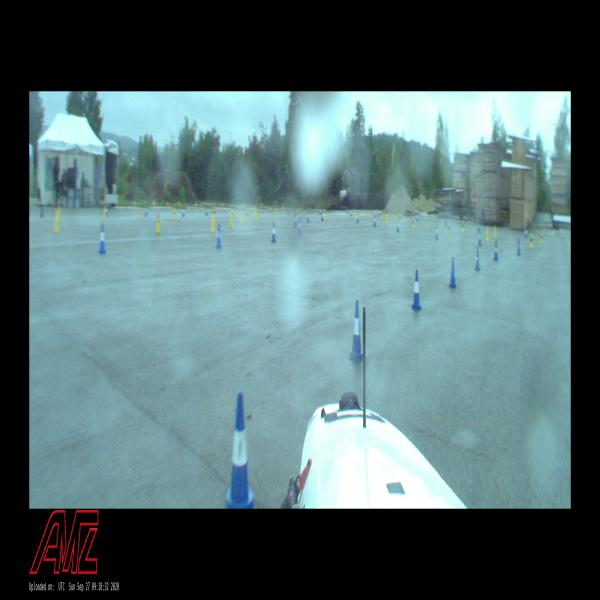blue_cone: (226, 392, 255, 509), (349, 300, 363, 360), (412, 269, 422, 310), (98, 224, 107, 254), (449, 257, 457, 288), (216, 224, 222, 248), (474, 248, 480, 270), (493, 240, 499, 261), (210, 214, 216, 233), (271, 222, 276, 242), (517, 238, 522, 256), (478, 230, 482, 245), (298, 219, 301, 236), (306, 211, 310, 223), (435, 225, 438, 239), (373, 216, 377, 226), (40, 207, 43, 217), (320, 211, 323, 221), (416, 212, 419, 222), (397, 221, 399, 232), (525, 228, 527, 238), (294, 216, 296, 226), (357, 214, 359, 223), (145, 207, 147, 215), (183, 208, 184, 217)
yellow_cone: (54, 217, 59, 232), (529, 234, 534, 248), (156, 217, 160, 234), (493, 224, 497, 240), (447, 222, 450, 235), (486, 228, 489, 241), (246, 210, 249, 222), (461, 221, 464, 232), (274, 209, 277, 220), (411, 217, 414, 228), (103, 208, 106, 219), (213, 207, 216, 218), (230, 216, 233, 227), (426, 217, 429, 227), (540, 232, 542, 244), (174, 208, 176, 219), (399, 212, 401, 222), (138, 209, 140, 219), (241, 213, 243, 223), (324, 211, 326, 219), (385, 215, 387, 223), (346, 210, 348, 217)
